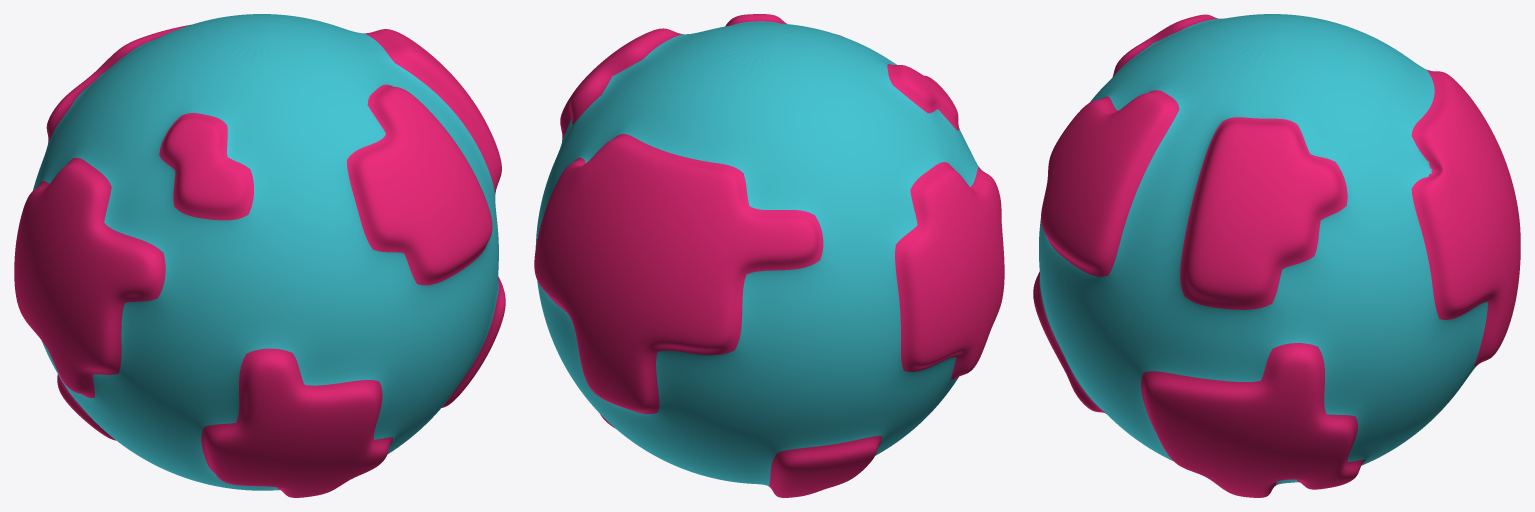
File: globe.glb
3 views of the same model, side by side, from view 1: azimuth 30°, elevation 25°; view 2: azimuth 150°, elevation 25°; view 3: azimuth 270°, elevation 25° (orthographic). The views are drawn at different scales.
Parts seen in each view (by area): view 1: Sphere; view 2: Sphere; view 3: Sphere.
Boxes of the visible parts, x1,y1,x2,y2 form: Sphere: (14, 14, 505, 497); Sphere: (534, 14, 1004, 497); Sphere: (1033, 14, 1520, 497).
Size of the model in its own units: 2.1 by 2 by 2.06.
Materials: 2 (1 with a texture image).
